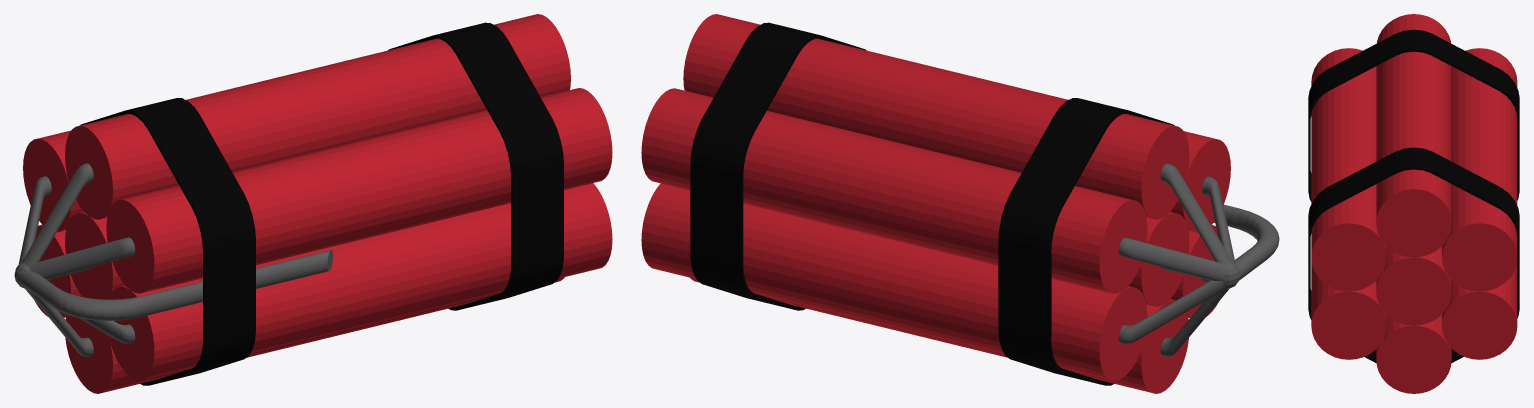
File: dinamit_2.fbx
The picture shows the model from 3 angles, left to right: view 1: azimuth 30°, elevation 25°; view 2: azimuth 150°, elevation 25°; view 3: azimuth 270°, elevation 25°; orthographic projection. The views are drawn at different scales.
Visible parts, largest first — view 1: Cylinder, Circle; view 2: Cylinder, Circle; view 3: Cylinder, Circle.
Boxes of the visible parts, left/top/right/bottom form: Cylinder: left=14, top=14, right=612, bottom=393; Circle: left=80, top=22, right=563, bottom=385; Cylinder: left=641, top=14, right=1279, bottom=393; Circle: left=690, top=22, right=1174, bottom=385; Cylinder: left=1311, top=14, right=1517, bottom=393; Circle: left=1308, top=29, right=1519, bottom=363.
Size of the model in its own units: 1275 by 616 by 561.
